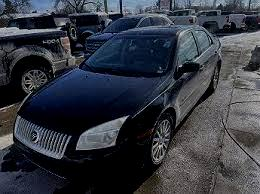Mercury: (23, 126, 44, 149)
